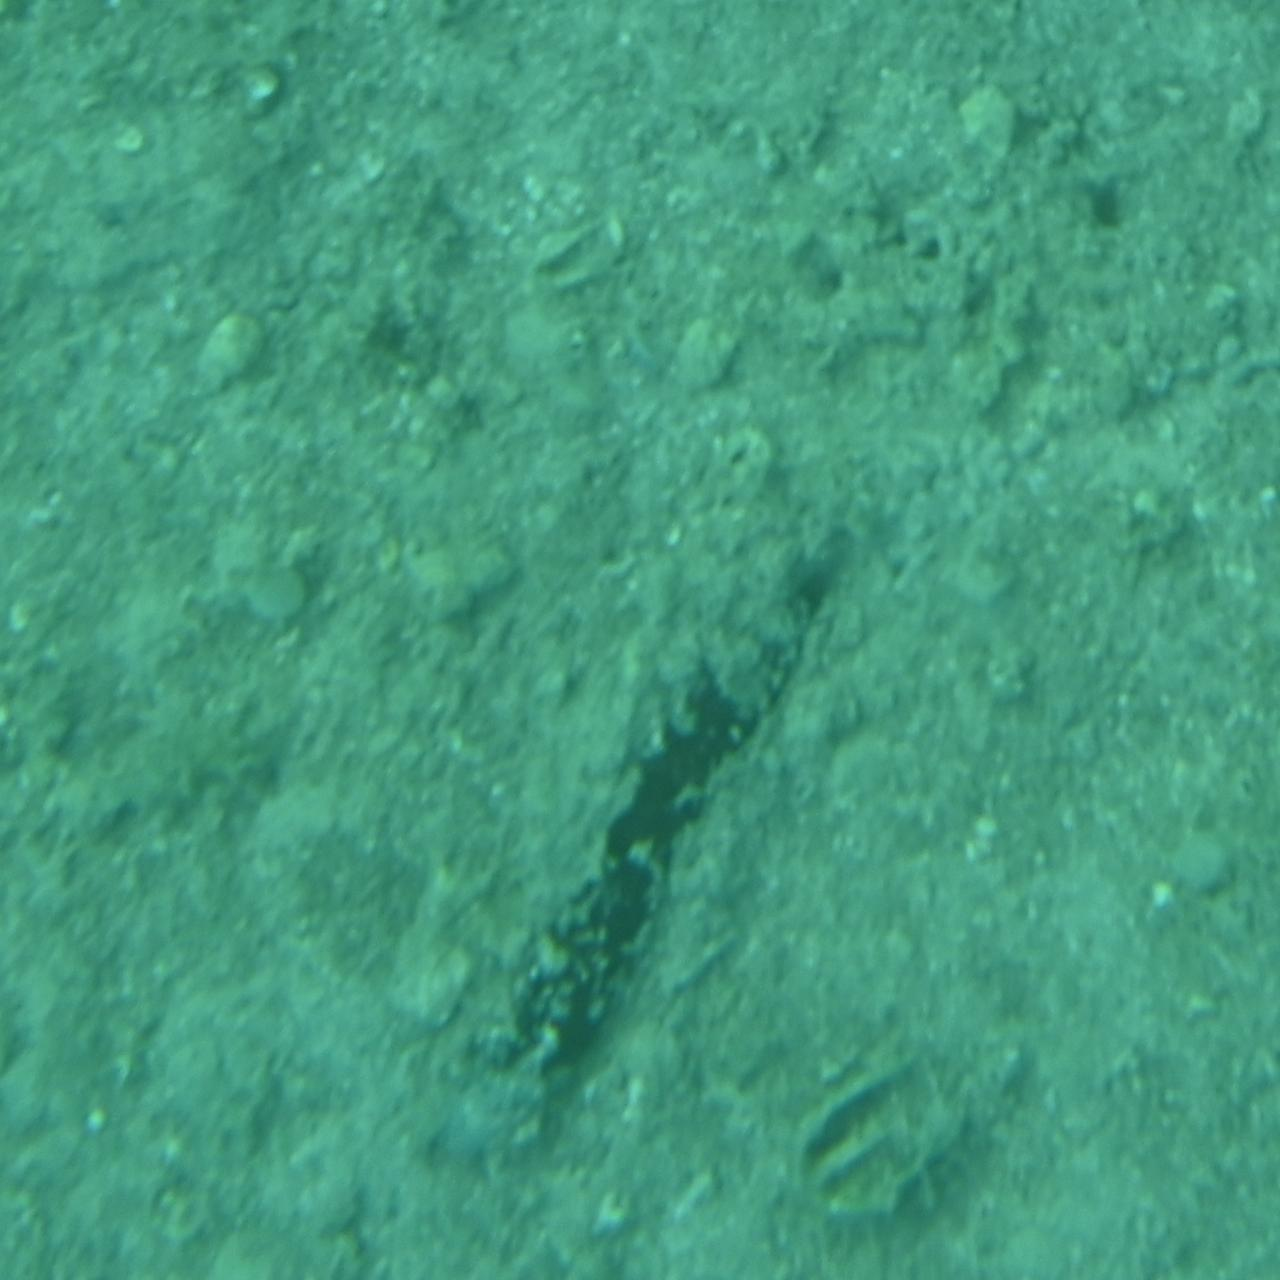Holothuria tubulosa: (423, 507, 857, 1135)
